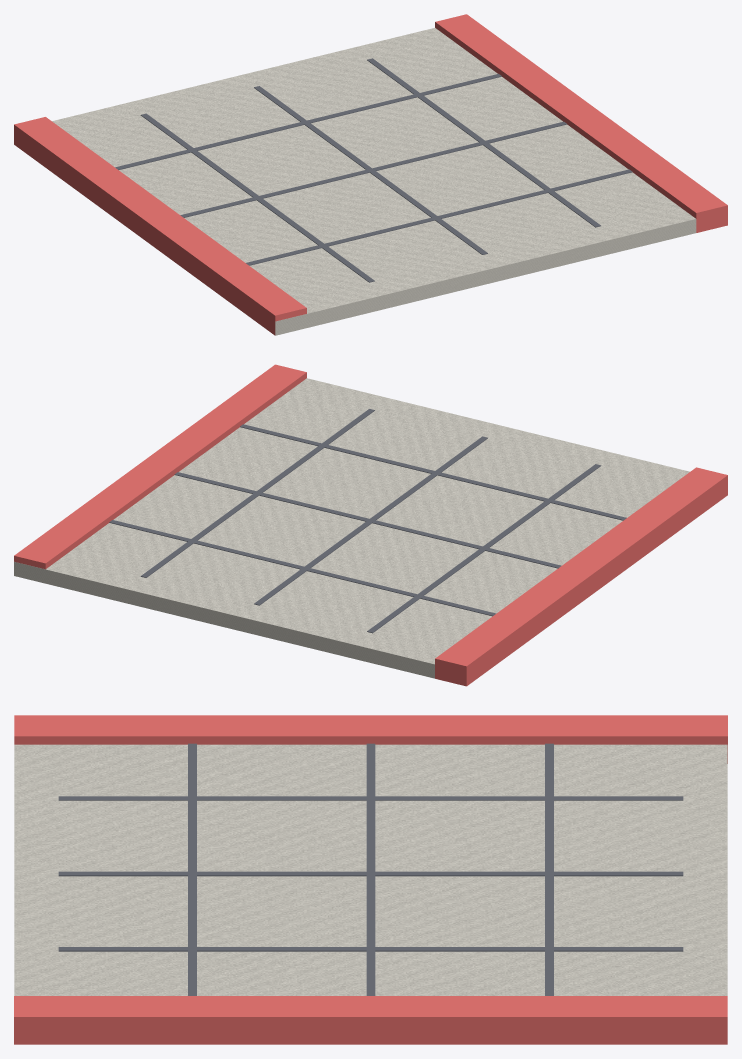
File: theme-park-rides-and-coasters-theme-park-rides-and-coa-5459df23__28694.glb
3 views of the same model, one above another, from view 1: azimuth 30°, elevation 25°; view 2: azimuth 150°, elevation 25°; view 3: azimuth 270°, elevation 25° (orthographic). The views are drawn at different scales.
Parts seen in each view (by area): view 1: theme-park-rides-and-coasters-path-tile-straight; view 2: theme-park-rides-and-coasters-path-tile-straight; view 3: theme-park-rides-and-coasters-path-tile-straight.
Boxes of the visible parts, x1=… form: theme-park-rides-and-coasters-path-tile-straight: x1=14, y1=14, x2=727, y2=335; theme-park-rides-and-coasters-path-tile-straight: x1=14, y1=364, x2=727, y2=686; theme-park-rides-and-coasters-path-tile-straight: x1=14, y1=715, x2=727, y2=1044.
Size of the model in its own units: 4 by 0.1701 by 4.
3 materials, 1 textured.
